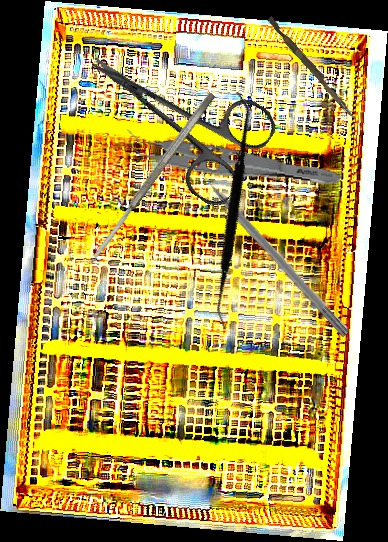Iris Scissors: (64, 12, 283, 213)
Pusher: (189, 159, 352, 338), (264, 16, 361, 121)
Spatula Surgical: (132, 90, 330, 331), (89, 90, 218, 261)
Tissue Forceps: (122, 126, 344, 191)
